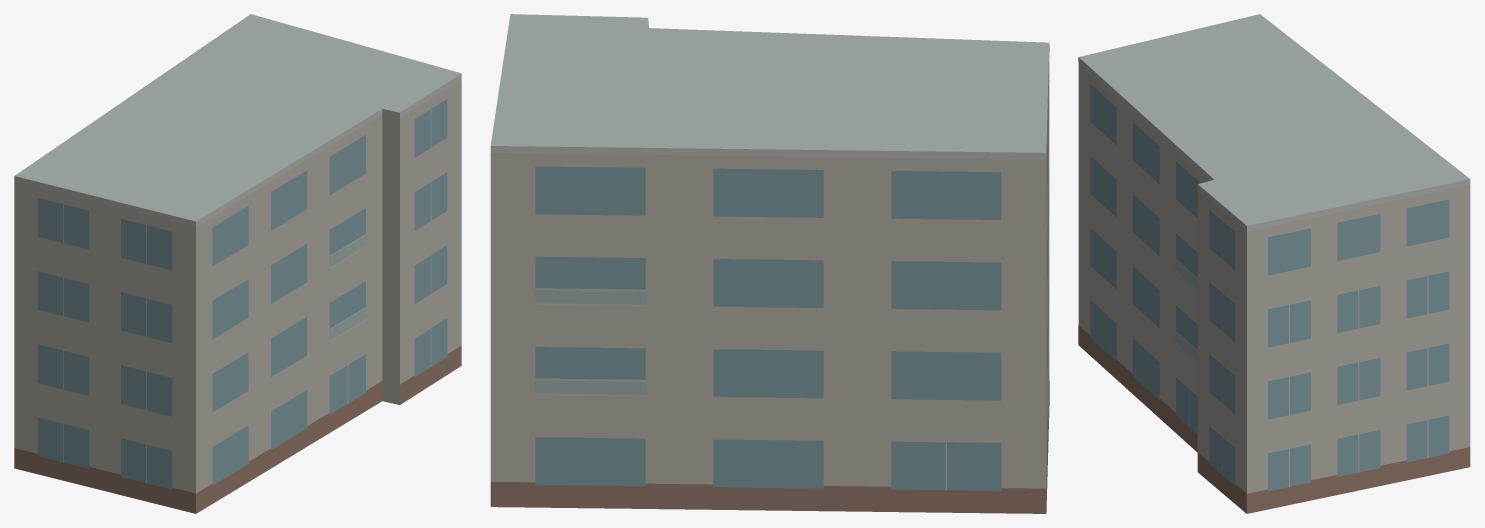
The model's file is survey-upis-32700174.glb.
The picture shows the model from 3 angles, left to right: view 1: azimuth 30°, elevation 25°; view 2: azimuth 150°, elevation 25°; view 3: azimuth 270°, elevation 25°; orthographic projection. The views are drawn at different scales.
Parts seen in each view (by area): view 1: survey-upis-32700174.tmp; view 2: survey-upis-32700174.tmp; view 3: survey-upis-32700174.tmp.
Boxes of the visible parts, x1,y1,x2,y2 form: survey-upis-32700174.tmp: (14, 14, 461, 513); survey-upis-32700174.tmp: (490, 14, 1049, 513); survey-upis-32700174.tmp: (1078, 14, 1470, 513).
Size of the model in its own units: 20.04 by 12.7 by 15.67.
